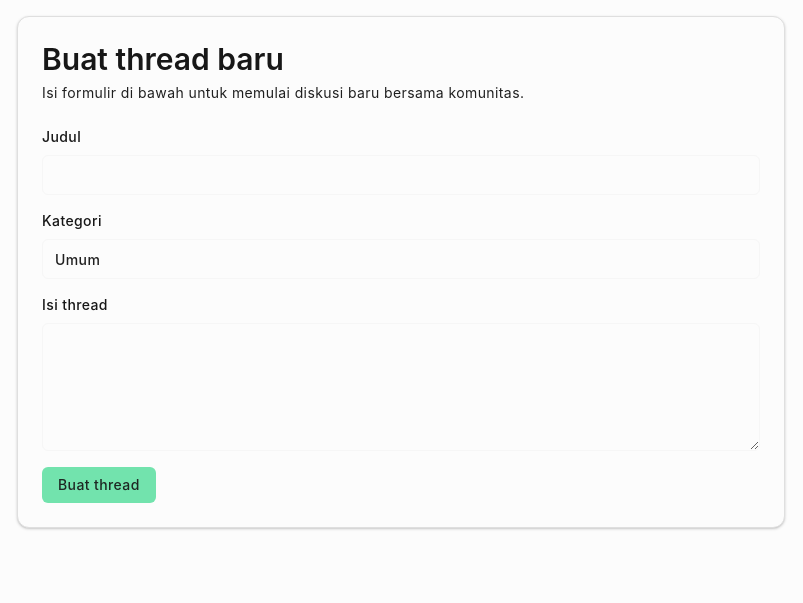
Test: CreateThreadPage integration › validates required fields
Click the button "Buat thread": (99, 485) [42, 467, 156, 503]
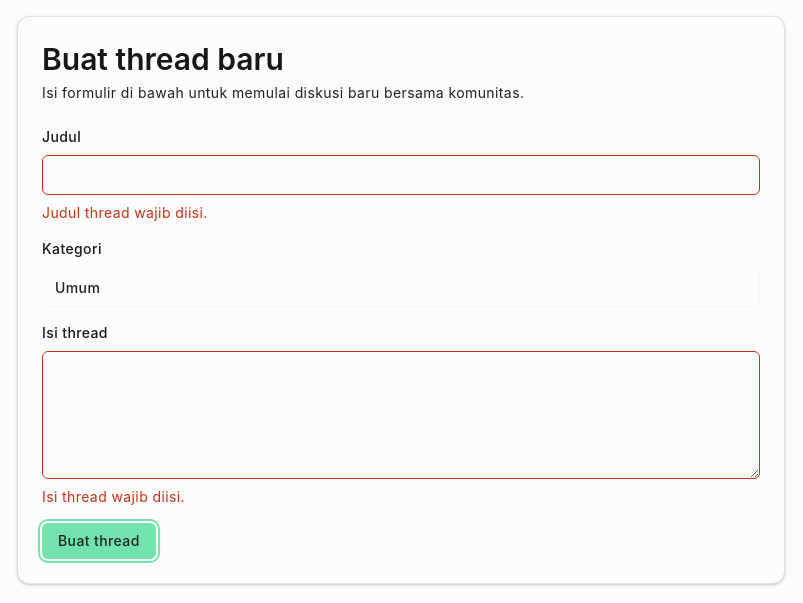
Expected: the text "Judul thread wajib diisi." is shown, [42, 204, 208, 221]
Expected: the text "Isi thread wajib diisi." is shown, [42, 488, 185, 505]
